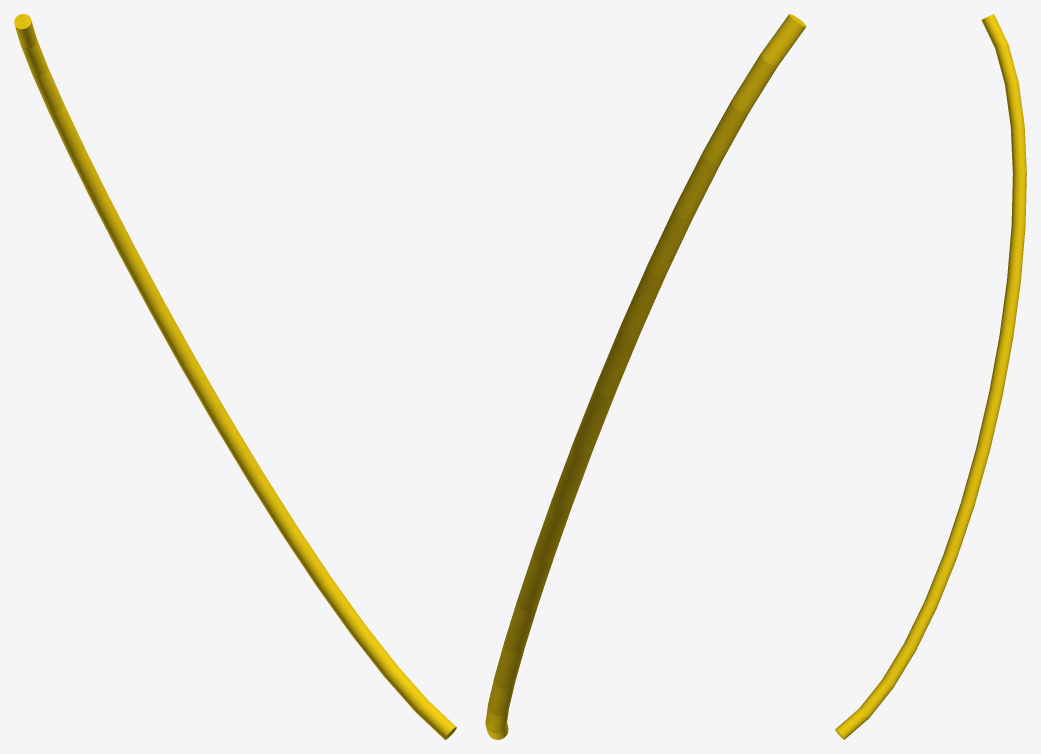
File: Event_420107950_track_36.fbx
3 views of the same model, side by side, from view 1: azimuth 30°, elevation 25°; view 2: azimuth 150°, elevation 25°; view 3: azimuth 270°, elevation 25° (orthographic). The views are drawn at different scales.
Parts seen in each view (by area): view 1: Model; view 2: Model; view 3: Model.
Part boxes in pixels (x1=…): Model: x1=14, y1=14, x2=456, y2=739; Model: x1=485, y1=14, x2=806, y2=739; Model: x1=835, y1=14, x2=1026, y2=739.
Bounding box in the file's own units: 0.9261 × 1.87 × 0.5457.
